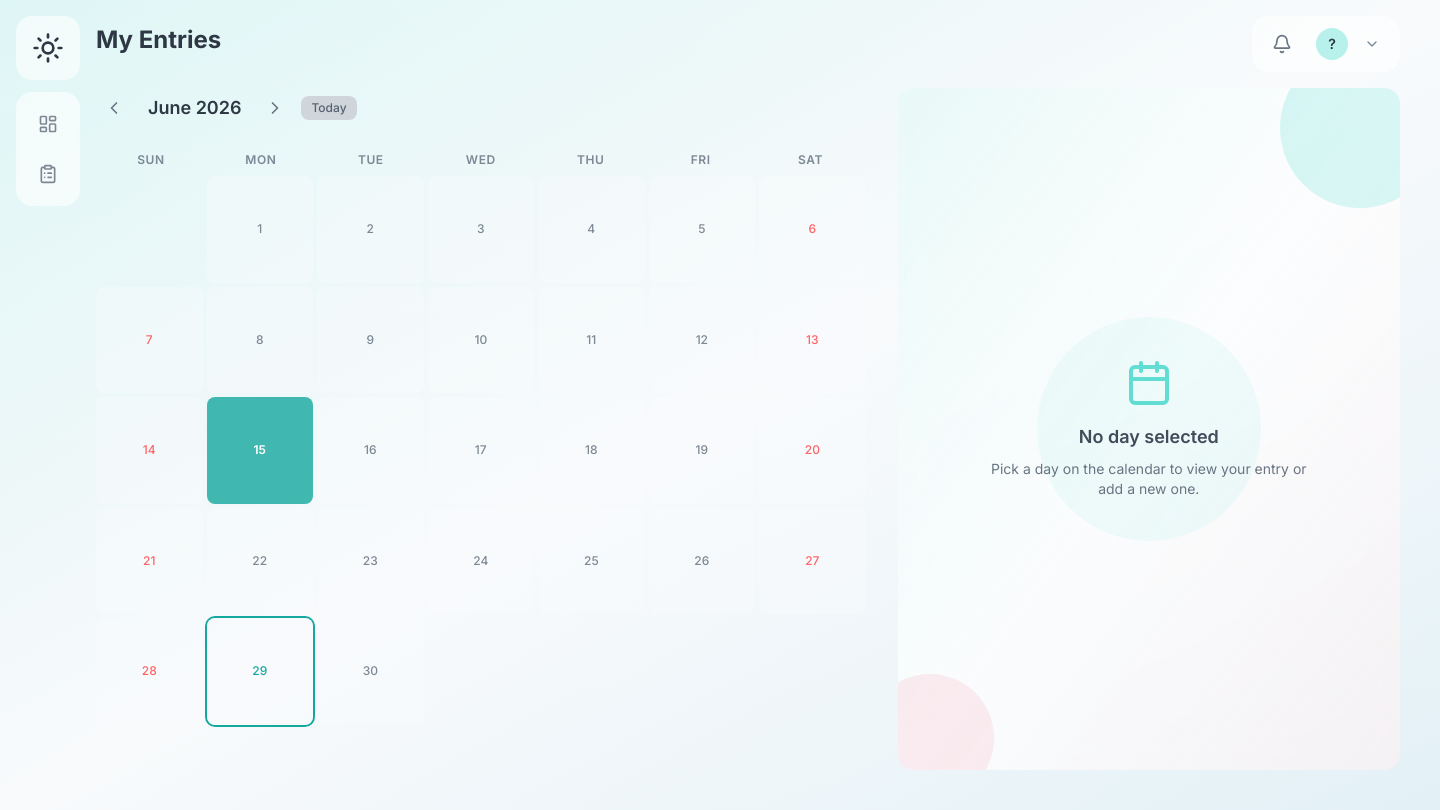
Test: EntriesPage — delete confirmation flow › dismisses the delete dialog when Cancel is clicked
Click the button "15": click(260, 450) [206, 397, 313, 504]
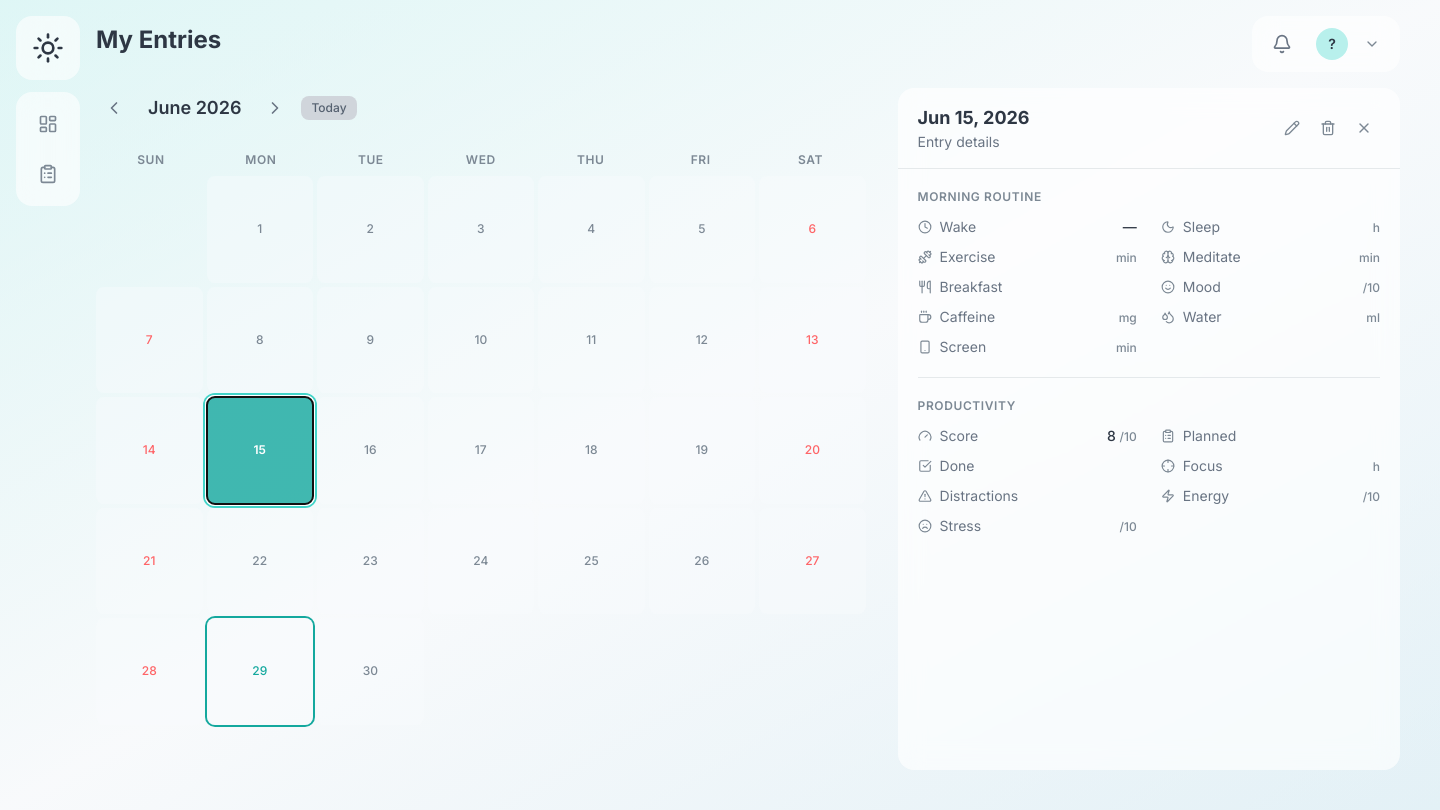
Click the button named "delete entry": click(1328, 128) [1312, 112, 1344, 144]
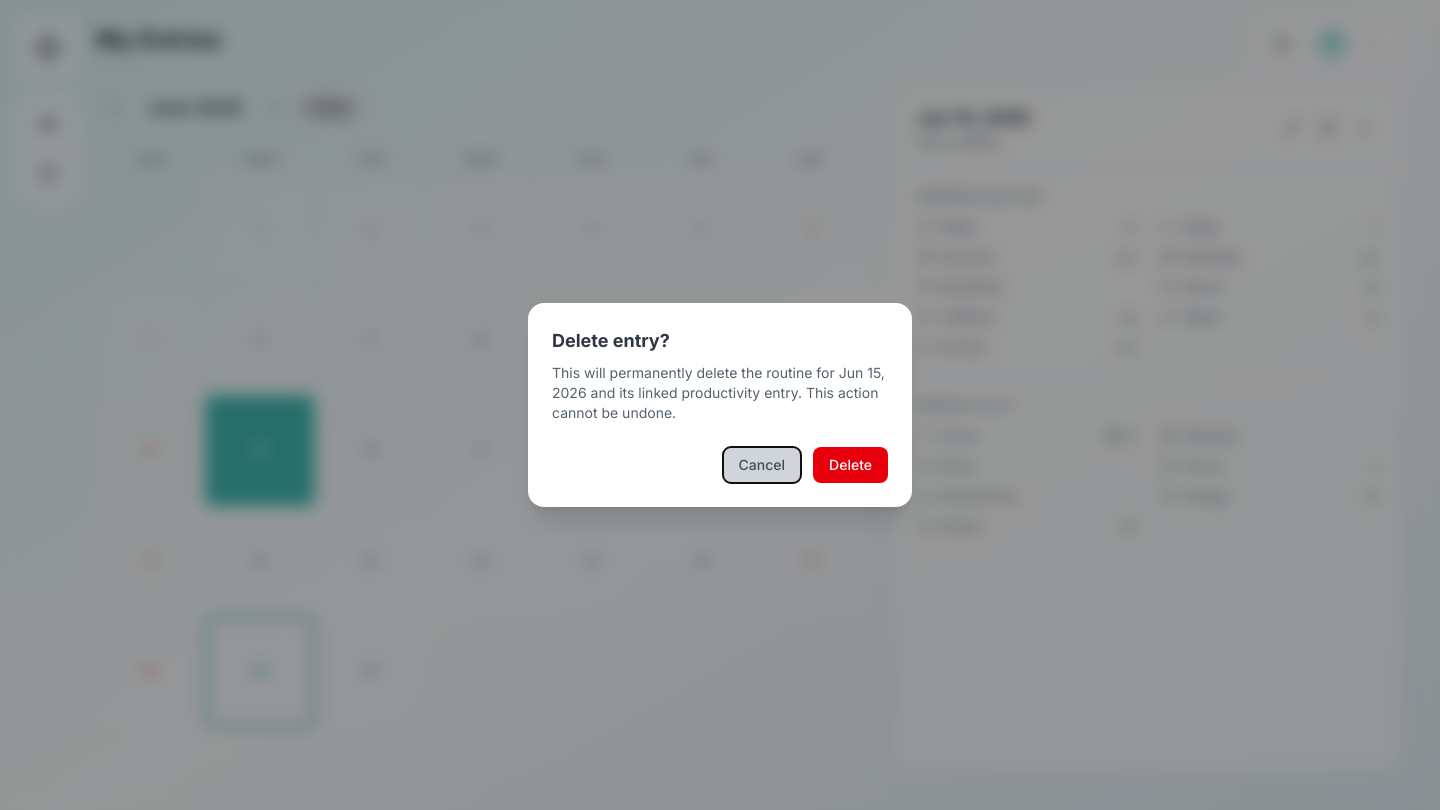
Check: the dialog is shown
Click the button "Cancel": click(762, 465) [723, 447, 801, 483]
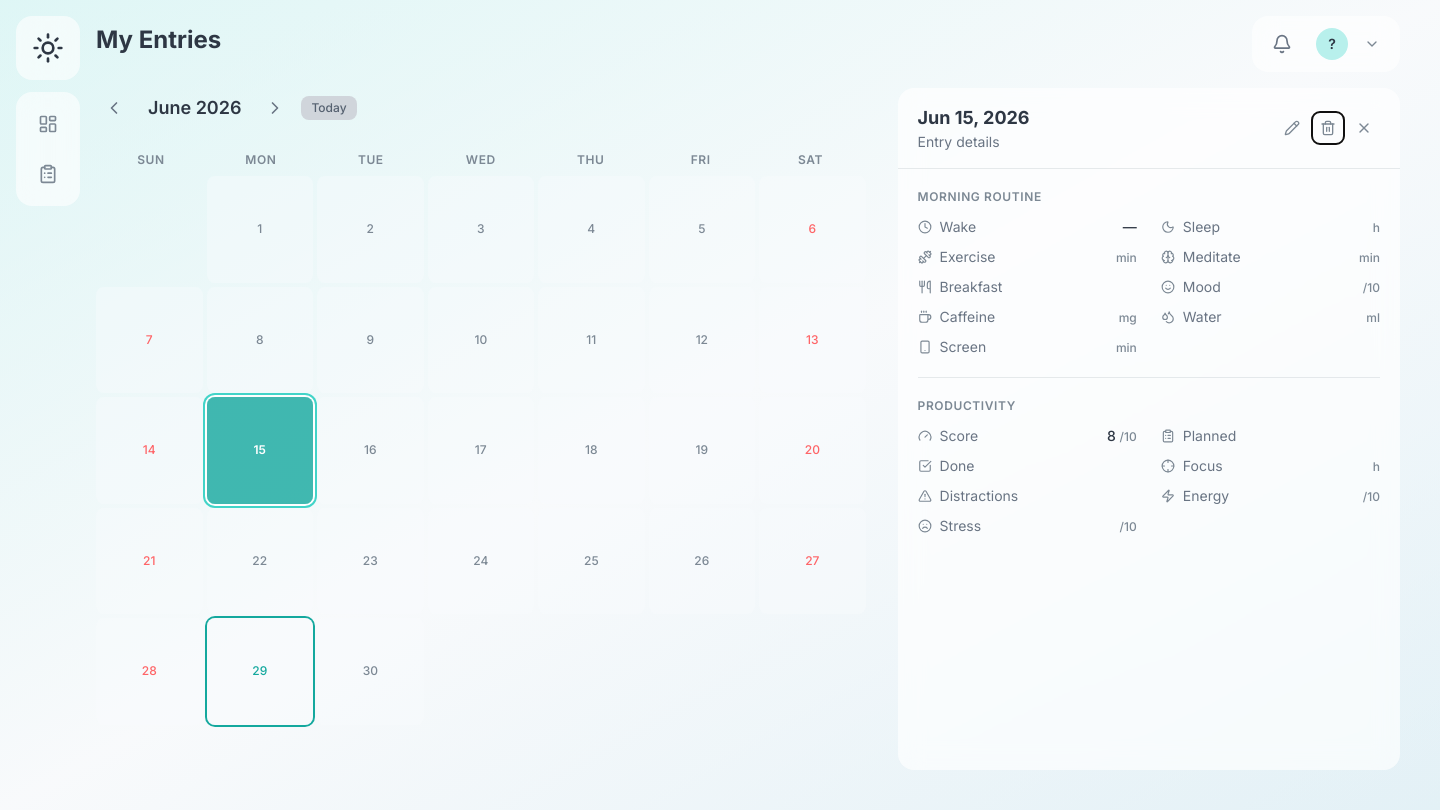
Check: the dialog is gone
